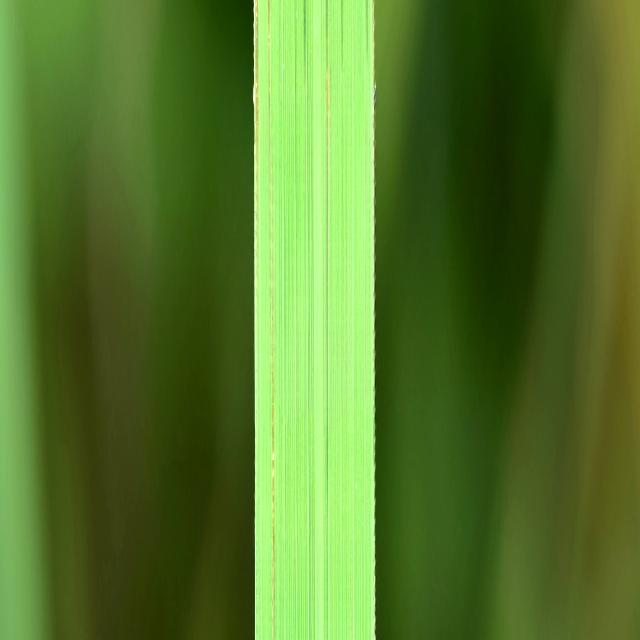BLS: (268, 0, 276, 640), (326, 0, 330, 498), (255, 0, 260, 337), (303, 0, 305, 85), (341, 0, 343, 76), (366, 0, 368, 54), (351, 608, 354, 640)
